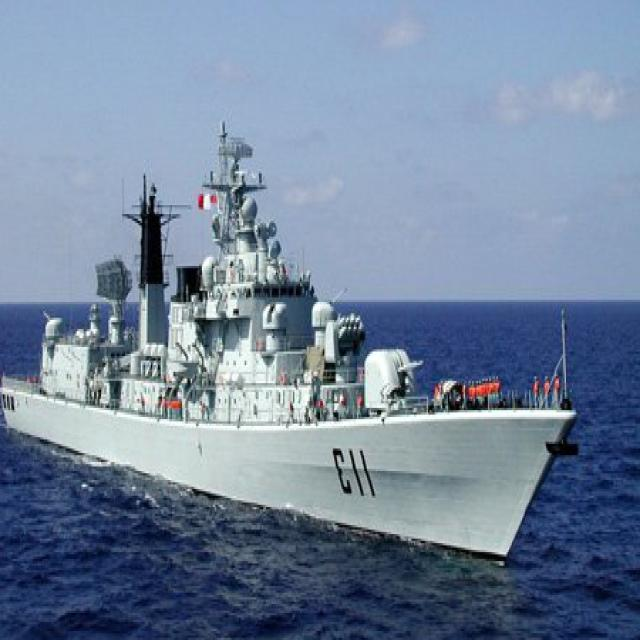navalvessels: (0, 97, 579, 557)
